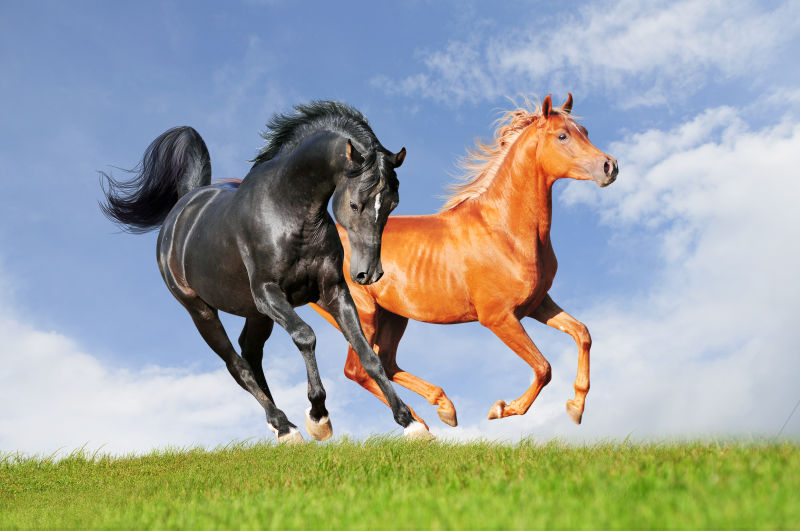horse: (94, 109, 452, 445), (295, 88, 622, 442)
